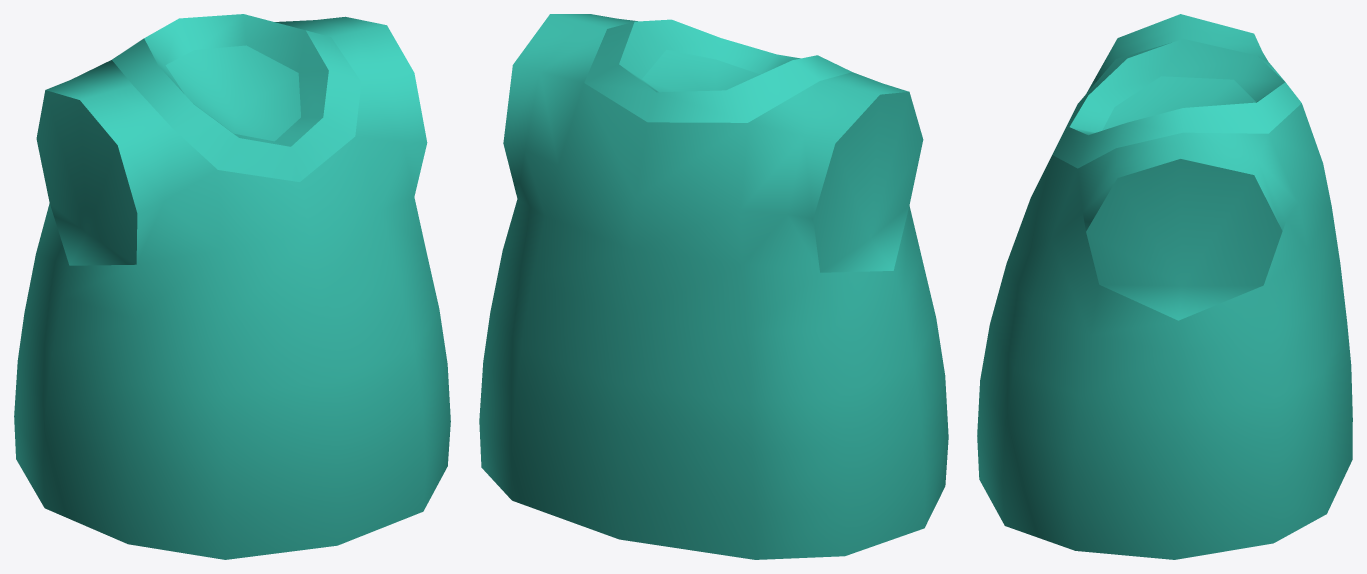
The model's file is Top_58.fbx.
3 renders of one model, left to right at view 1: azimuth 30°, elevation 25°; view 2: azimuth 150°, elevation 25°; view 3: azimuth 270°, elevation 25°, orthographic. The views are drawn at different scales.
Visible parts, largest first — view 1: Top_58; view 2: Top_58; view 3: Top_58.
Boxes of the visible parts, x1,y1,x2,y2 form: Top_58: (14, 14, 450, 559); Top_58: (479, 14, 948, 559); Top_58: (977, 14, 1352, 559).
Size of the model in its own units: 41 by 42.68 by 35.79.
